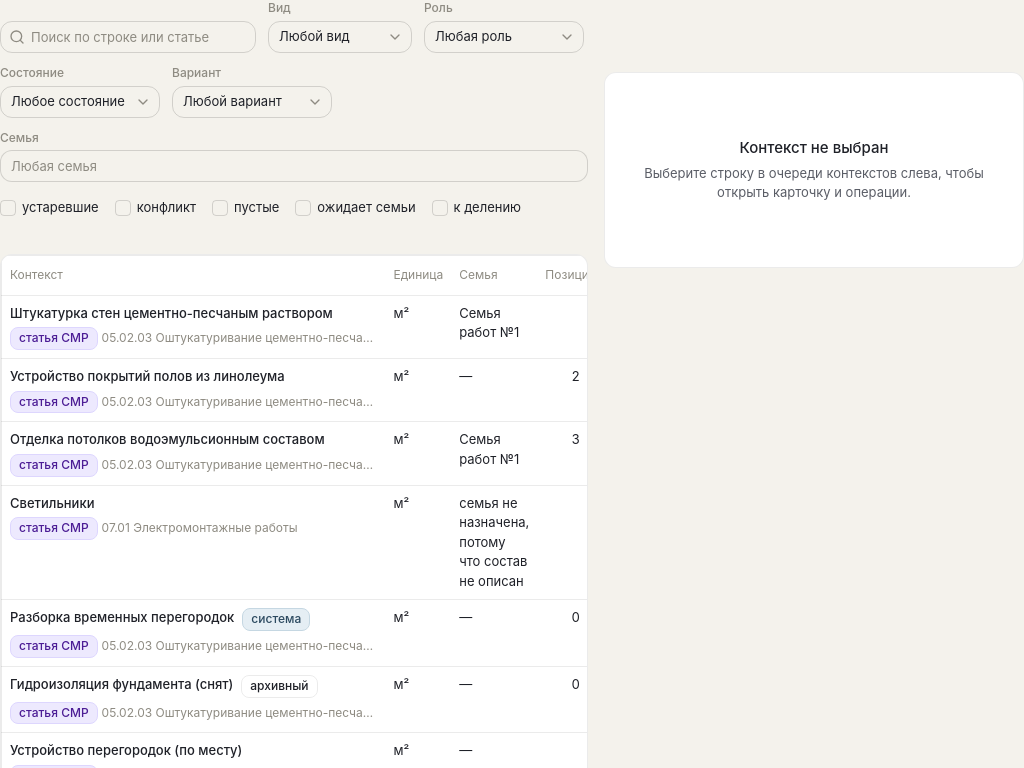
Test case: ContextsTab › смена фильтра НЕ снимает выбор, если выбранный контекст остаётся в выдаче
This screenshot has width=1024, height=768.
Click the text "Штукатурка стен цементно-песчаным раствором" at (171, 314), box [10,304,333,323]
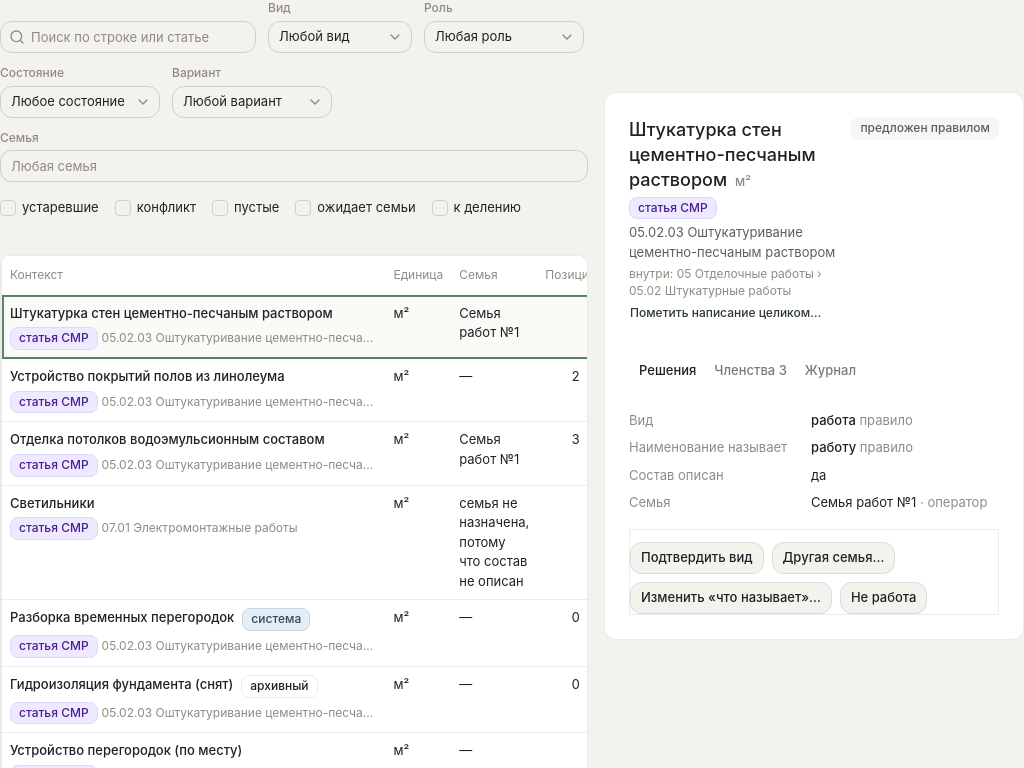
Expected: the heading "Контекст не выбран" is gone
Type "штукатурка" into the field named "Поиск по написанию каталога" at (140, 37), box [25,19,255,55]
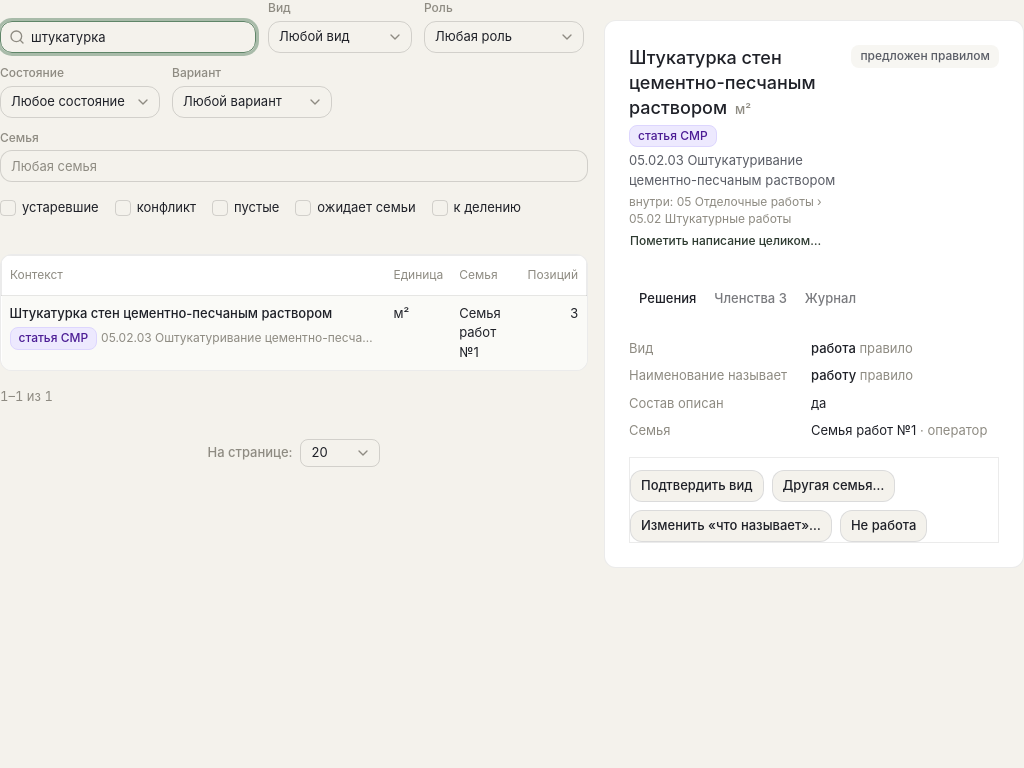
Expected: the heading "Контекст не выбран" is not shown
Expected: the text "1–1 из 1" is shown, [0,388,53,404]
Expected: the text "Устройство покрытий полов из линолеума" is gone
